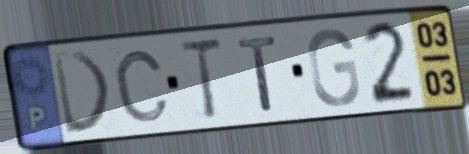2: (359, 18, 421, 109)
C: (111, 48, 172, 126)
D: (49, 48, 116, 138)
G: (304, 26, 362, 109)
T: (175, 35, 226, 124), (234, 32, 281, 115)
